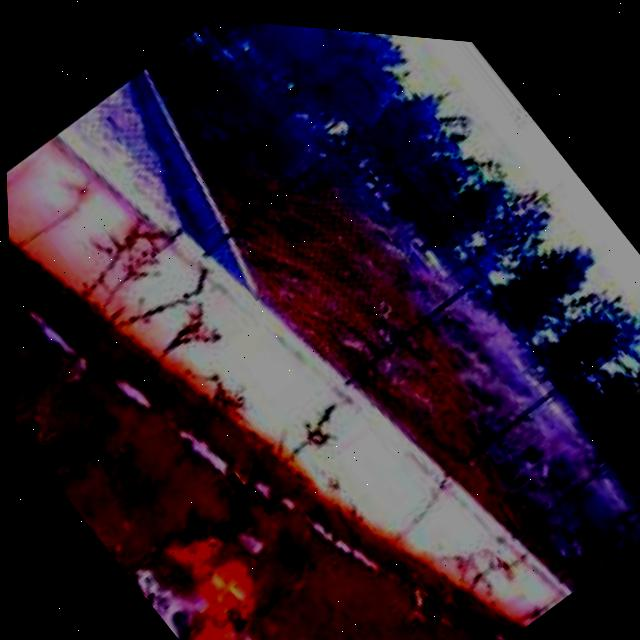Fire: (120, 505, 301, 640)
